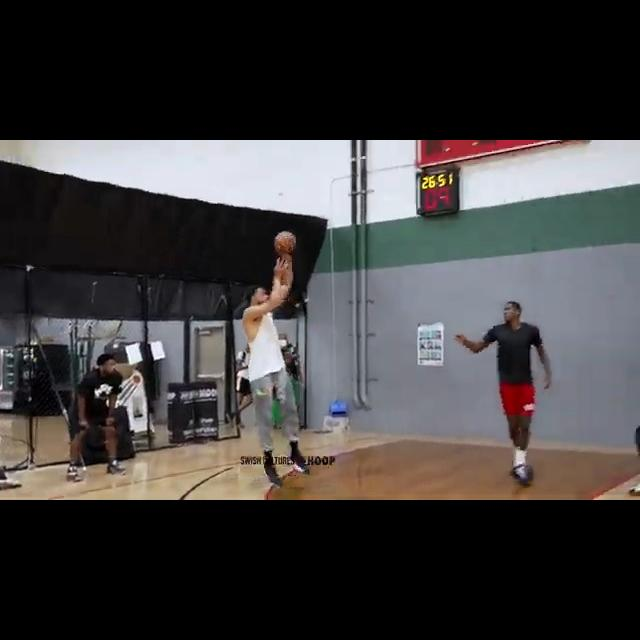basketball: (272, 232, 297, 254)
person: (455, 299, 557, 483), (240, 255, 313, 487), (63, 352, 134, 483)
